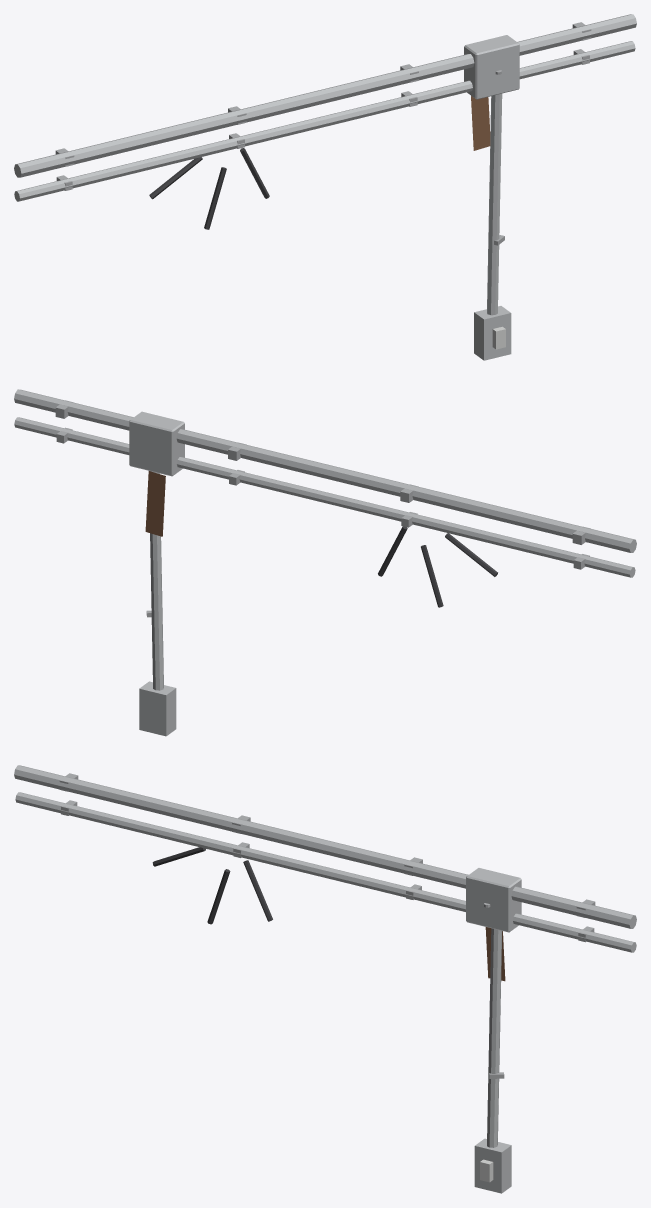
Rendered from Dress_Conduit_Wall.fbx.
3 renders of one model, top to bottom at view 1: azimuth 30°, elevation 25°; view 2: azimuth 150°, elevation 25°; view 3: azimuth 330°, elevation 25°, orthographic.
Parts seen in each view (by area): view 1: Dress_Conduit_Wall; view 2: Dress_Conduit_Wall; view 3: Dress_Conduit_Wall.
Boxes of the visible parts, x1,y1,x2,y2 form: Dress_Conduit_Wall: (14,14,636,360); Dress_Conduit_Wall: (14,389,636,736); Dress_Conduit_Wall: (14,765,636,1193).
Bounding box in the file's own units: 250 × 120 × 10.9.
